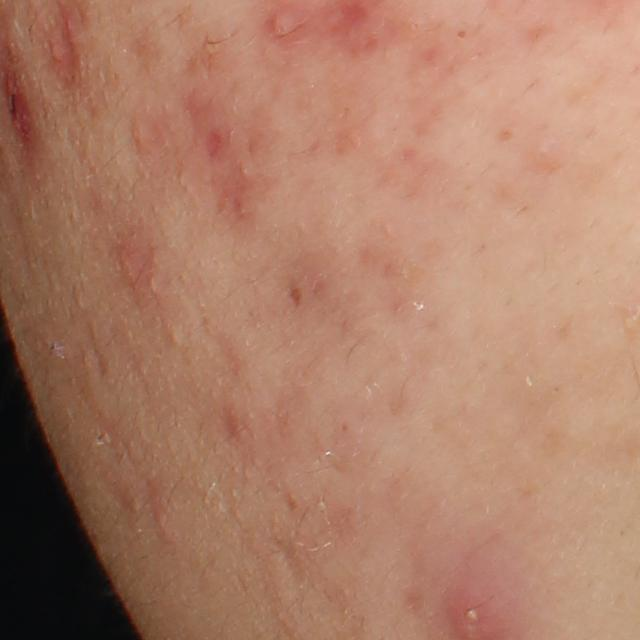comedo: (448, 25, 471, 43), (169, 330, 183, 346)
papule: (4, 58, 42, 131), (142, 485, 179, 543), (268, 5, 311, 44), (116, 247, 146, 293)
